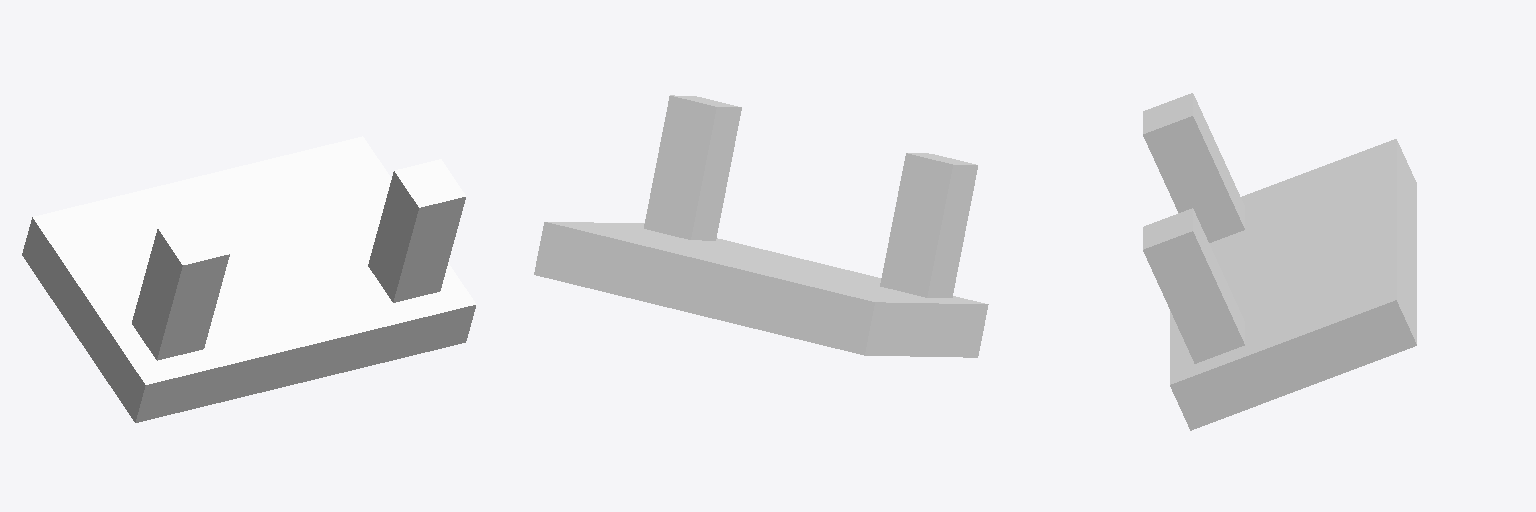
The model's file is amphibius_mouth.obj.
3 views of the same model, side by side, from view 1: azimuth 30°, elevation 25°; view 2: azimuth 150°, elevation 25°; view 3: azimuth 270°, elevation 25° (orthographic).
Parts seen in each view (by area): view 1: Element #15, Element #11, Element #16; view 2: Element #15, Element #16, Element #11; view 3: Element #15, Element #11, Element #16.
Boxes of the visible parts, box(x1,y1,x2,y2) form: Element #15: box(22, 136, 476, 422); Element #11: box(368, 159, 465, 302); Element #16: box(132, 217, 229, 360); Element #15: box(534, 222, 988, 357); Element #16: box(880, 153, 977, 297); Element #11: box(644, 95, 741, 240); Element #15: box(1170, 139, 1416, 430); Element #11: box(1143, 208, 1244, 363); Element #16: box(1143, 93, 1244, 242).
Size of the model in its own units: 7 by 3.81 by 5.03.